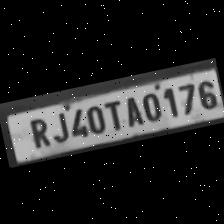0: (137, 86, 164, 124), (81, 100, 107, 136)
1: (158, 83, 180, 119)
4: (62, 104, 88, 140)
6: (190, 75, 220, 112)
7: (171, 78, 198, 115)
A: (119, 92, 144, 128)
J: (44, 106, 70, 144)
R: (22, 112, 54, 150)
T: (101, 96, 126, 132)
